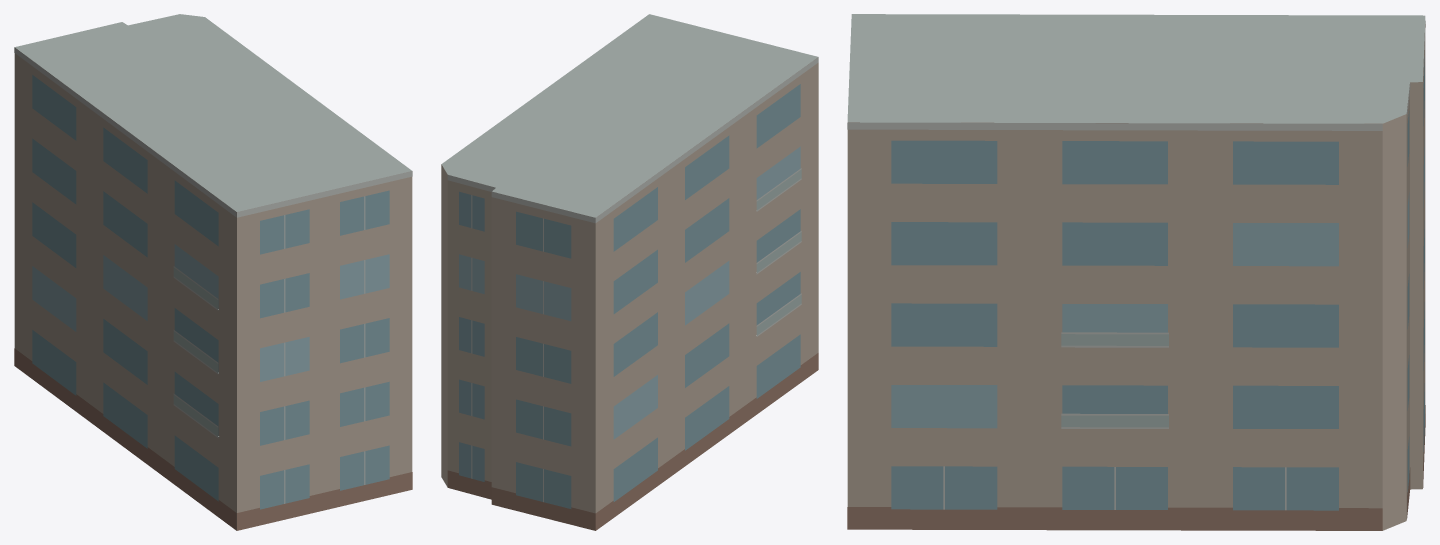
Rendered from survey-upis-32903702.glb.
3 views of the same model, side by side, from view 1: azimuth 30°, elevation 25°; view 2: azimuth 150°, elevation 25°; view 3: azimuth 270°, elevation 25° (orthographic). The views are drawn at different scales.
Visible parts, largest first — view 1: survey-upis-32903702.tmp; view 2: survey-upis-32903702.tmp; view 3: survey-upis-32903702.tmp.
Boxes of the visible parts, x1,y1,x2,y2 form: survey-upis-32903702.tmp: (14,14,412,530); survey-upis-32903702.tmp: (441,14,818,530); survey-upis-32903702.tmp: (847,14,1425,530).
Bounding box in the file's own units: 8.01 × 13.8 × 17.77.
